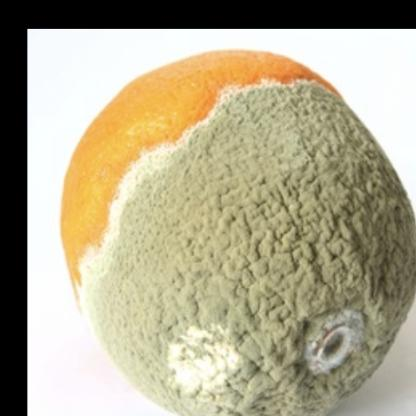rotten: (63, 49, 416, 416)
